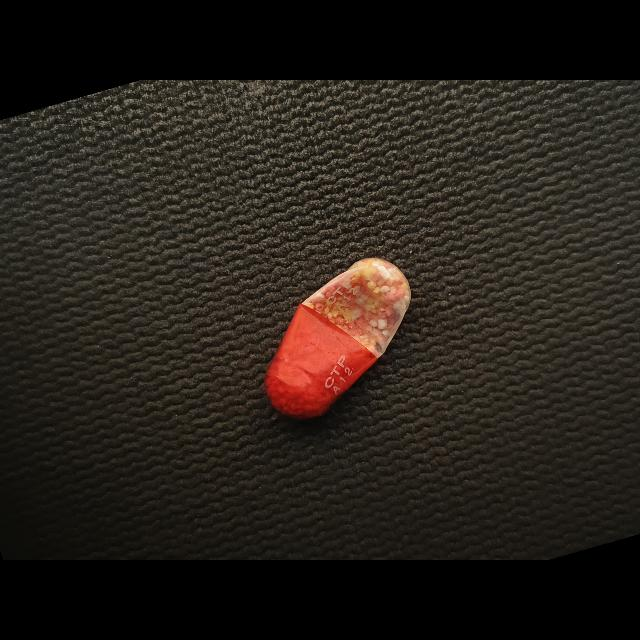Defective Capsule: (265, 258, 411, 418)
